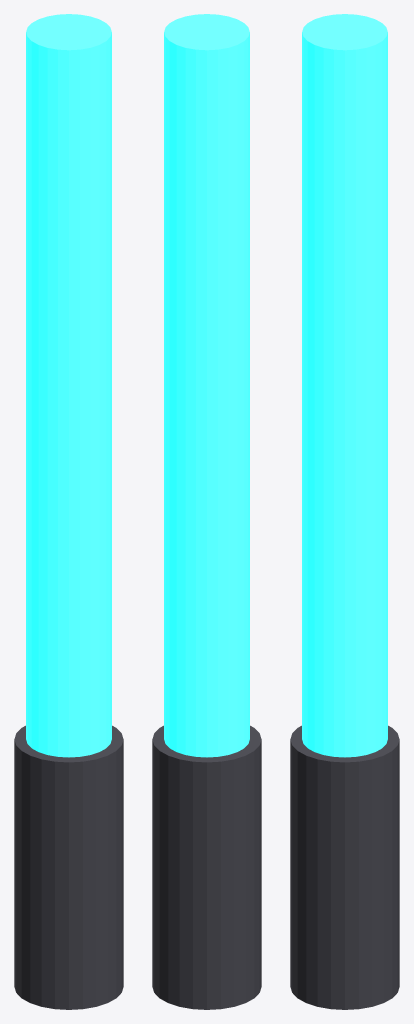
The model's file is prop_glowstick_placeholder_v0.glb.
3 views of the same model, side by side, from view 1: azimuth 90°, elevation 25°; view 2: azimuth 150°, elevation 25°; view 3: azimuth 270°, elevation 25° (orthographic).
Parts seen in each view (by area): view 1: Glow, Glowstick_Grip; view 2: Glow, Glowstick_Grip; view 3: Glow, Glowstick_Grip.
Part boxes in pixels (x1=…): Glow: x1=26, y1=14, x2=111, y2=757; Glowstick_Grip: x1=14, y1=725, x2=123, y2=1009; Glow: x1=164, y1=14, x2=249, y2=757; Glowstick_Grip: x1=152, y1=725, x2=261, y2=1009; Glow: x1=302, y1=14, x2=387, y2=757; Glowstick_Grip: x1=290, y1=725, x2=399, y2=1009.
Size of the model in its own units: 0.028 by 0.27 by 0.028.
